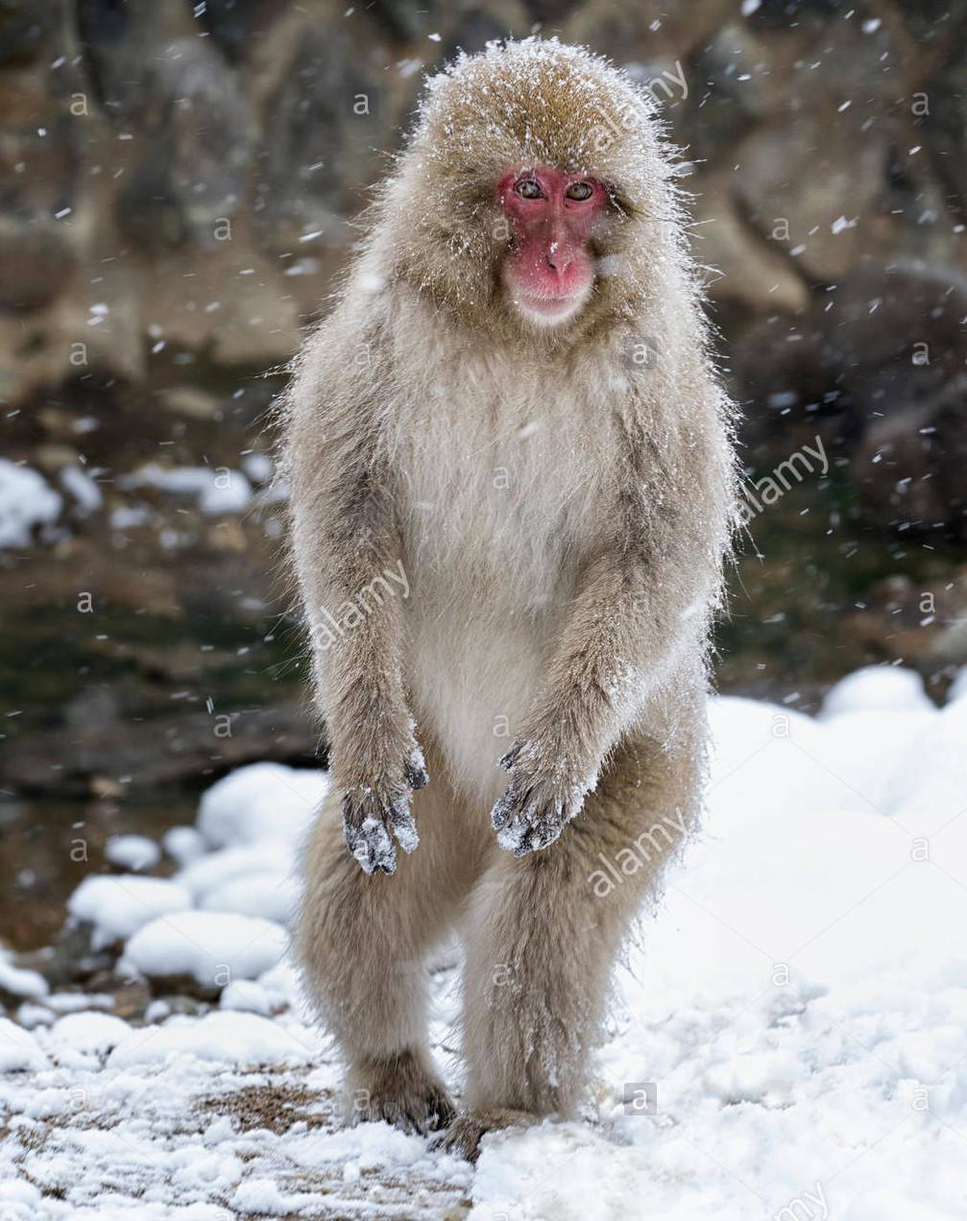monkey: (288, 37, 725, 1157)
